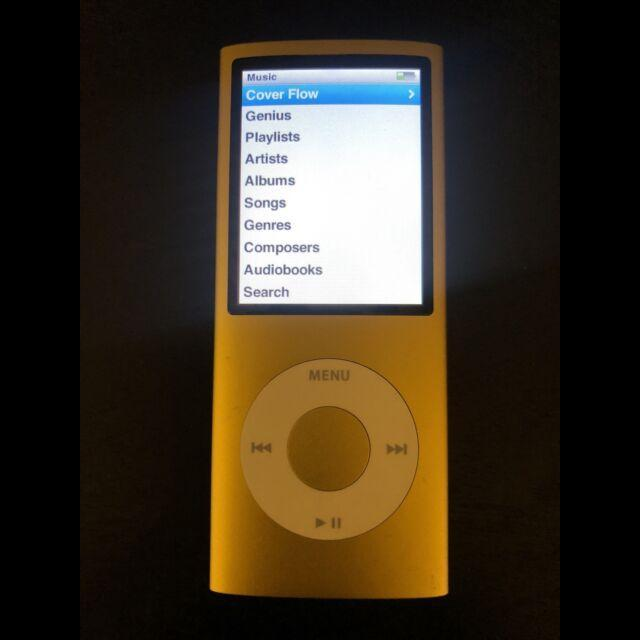Music-Player: (196, 36, 449, 608)
